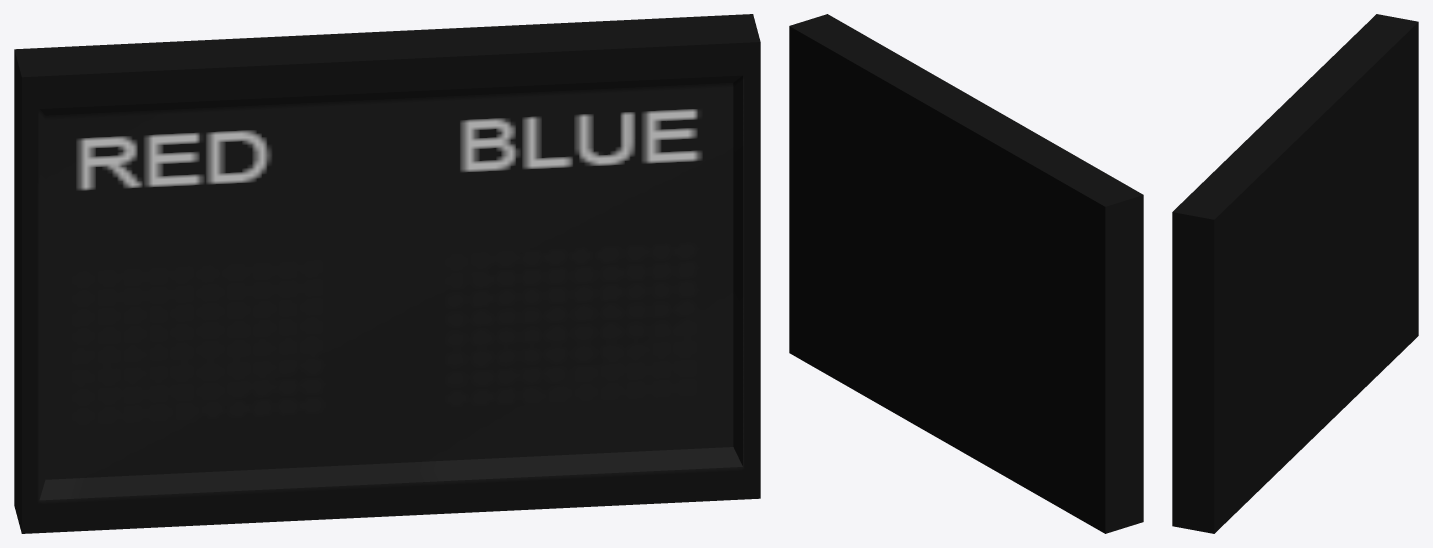
File: placar.dae
The picture shows the model from 3 angles, left to right: view 1: azimuth 30°, elevation 25°; view 2: azimuth 150°, elevation 25°; view 3: azimuth 270°, elevation 25°; orthographic projection. The views are drawn at different scales.
Visible parts, largest first — view 1: Placar_Low; view 2: Placar_Low; view 3: Placar_Low.
Part boxes in pixels (x1,y1,x2,y2): Placar_Low: (14,14,760,533); Placar_Low: (789,14,1143,533); Placar_Low: (1172,14,1418,533).
Bounding box in the file's own units: 3.39 × 2.41 × 1.72.
